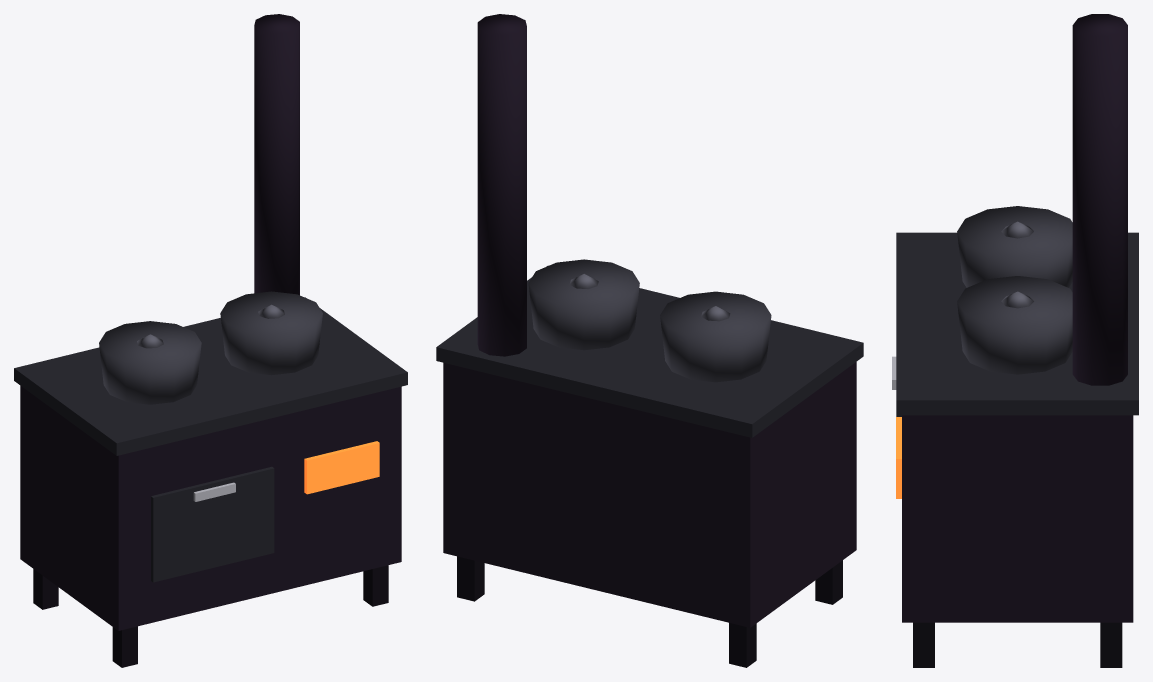
Rendered from stove.glb.
3 views of the same model, side by side, from view 1: azimuth 30°, elevation 25°; view 2: azimuth 150°, elevation 25°; view 3: azimuth 270°, elevation 25° (orthographic). The views are drawn at different scales.
Visible parts, largest first — view 1: stove; view 2: stove; view 3: stove.
Boxes of the visible parts, bbox=[...] form: stove: bbox=[14, 14, 407, 667]; stove: bbox=[436, 14, 863, 667]; stove: bbox=[892, 14, 1138, 667].
Bounding box in the file's own units: 0.72 × 1.25 × 0.448.
